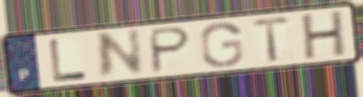G: (198, 21, 246, 69)
H: (300, 8, 348, 62)
L: (47, 37, 89, 83)
N: (95, 26, 147, 82)
P: (149, 25, 194, 75)
T: (250, 14, 293, 65)
